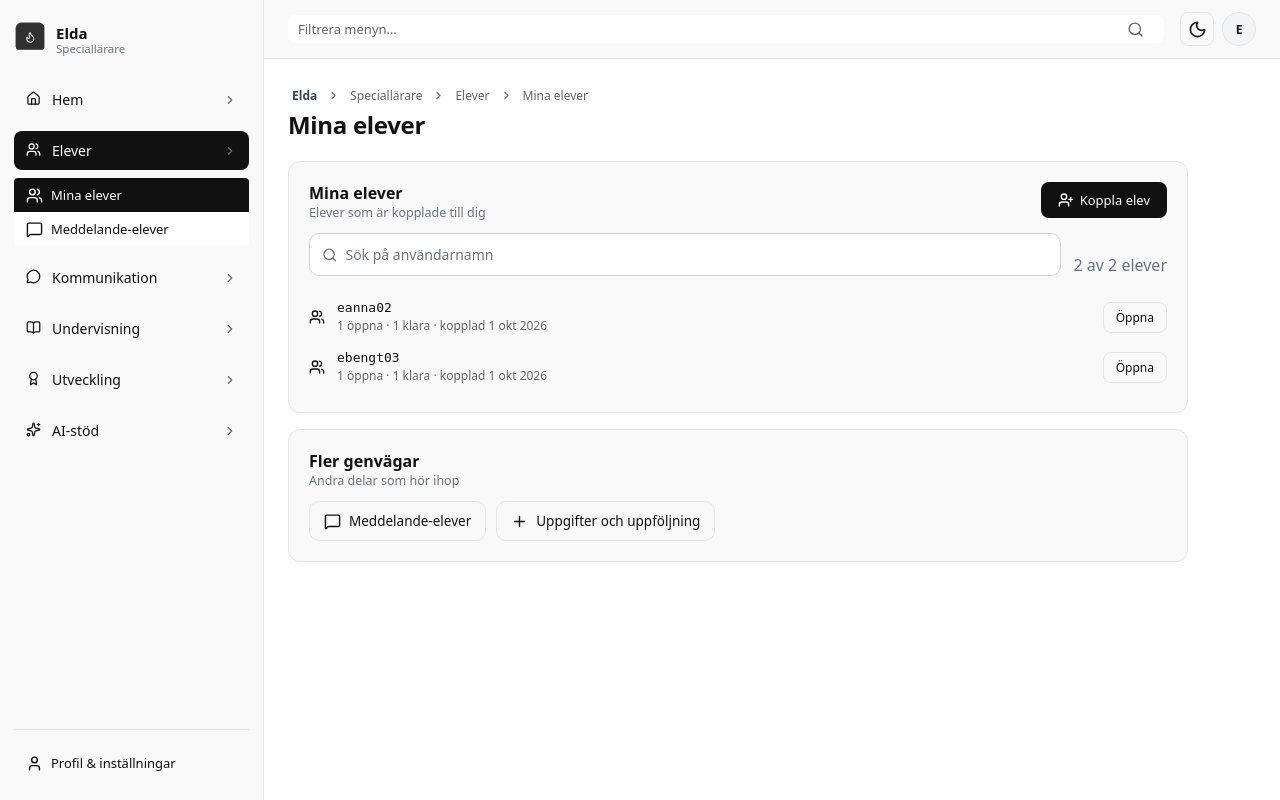
mina elever › visar kopplade elever och filtrerar på användarnamn
The width and height of the screenshot is (1280, 800).
Check: the text "eanna02" is shown, box [337,300,392,315]
Check: the text "ebengt03" is shown, box [337,350,400,365]
Type "bengt" into the search field named "Sök elev" at (697, 254), box [346,234,1048,275]
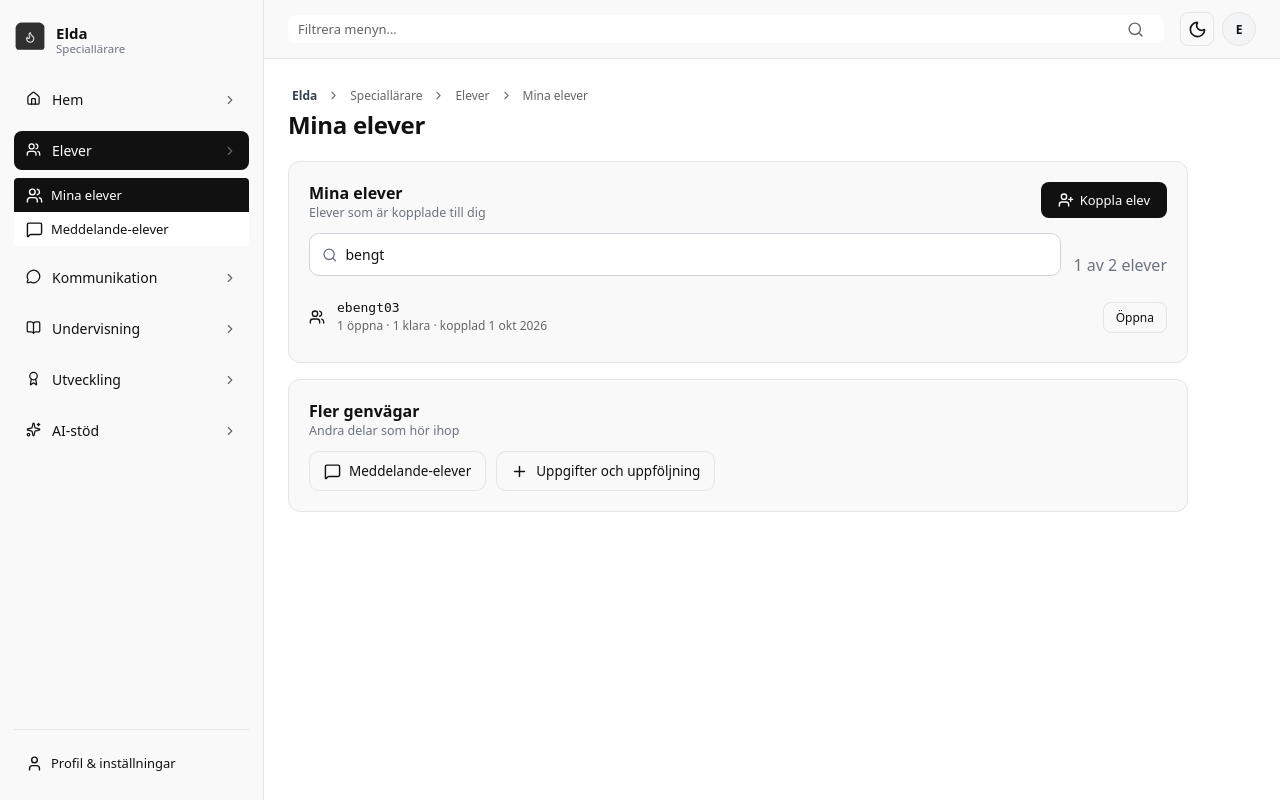
Check: the text "ebengt03" is shown, box [337,300,400,315]
Check: the text "eanna02" is gone
